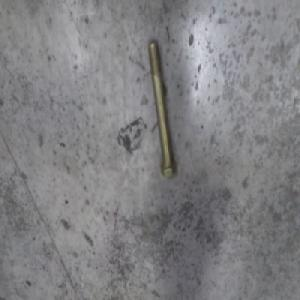Bolt: (140, 33, 173, 169)
